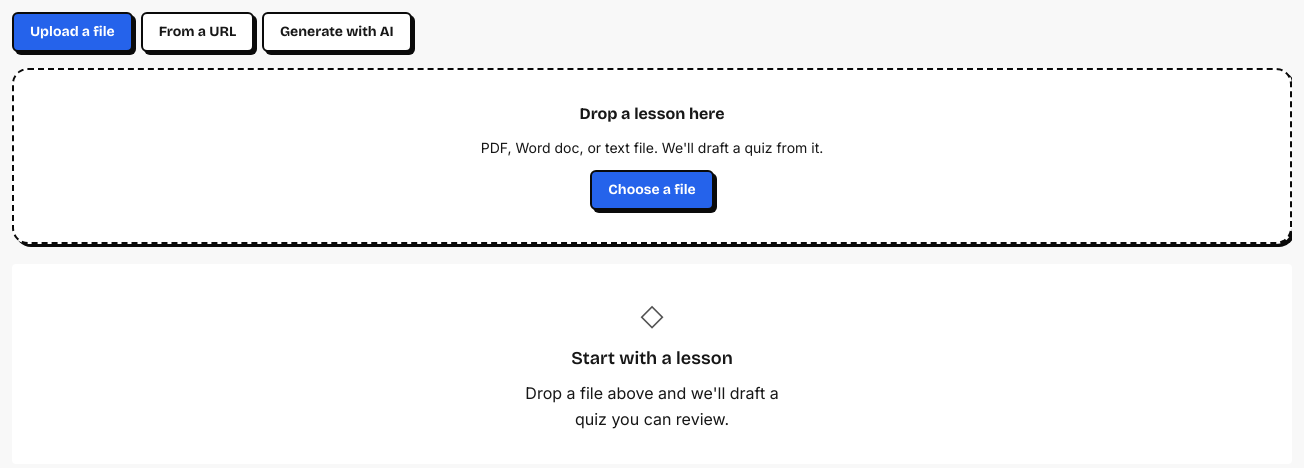
Test: ContentStudioTabs › switches to the Generate tab and passes the school state
Click the tab "Generate with AI" at {"x": 337, "y": 32}, box left=262, top=12, right=412, bottom=52
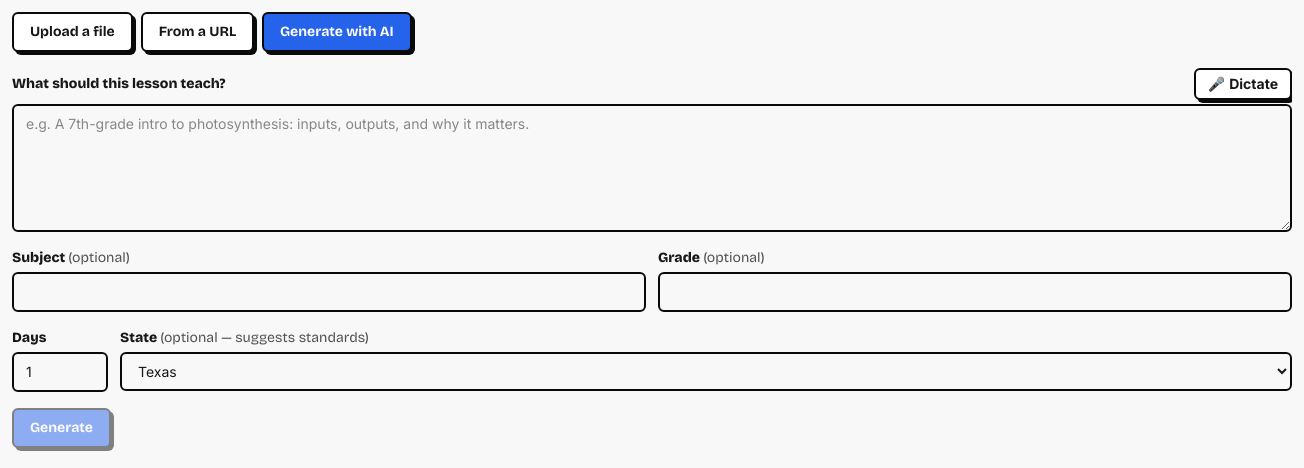
Expected: the text box labelled "What should this lesson teach?" is shown, left=12, top=104, right=1292, bottom=232
Expected: the dropdown labelled "State (optional — suggests standards)" shows "Texas", left=120, top=352, right=1292, bottom=391
